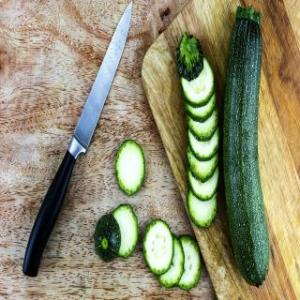zucchini: (221, 9, 281, 285)
